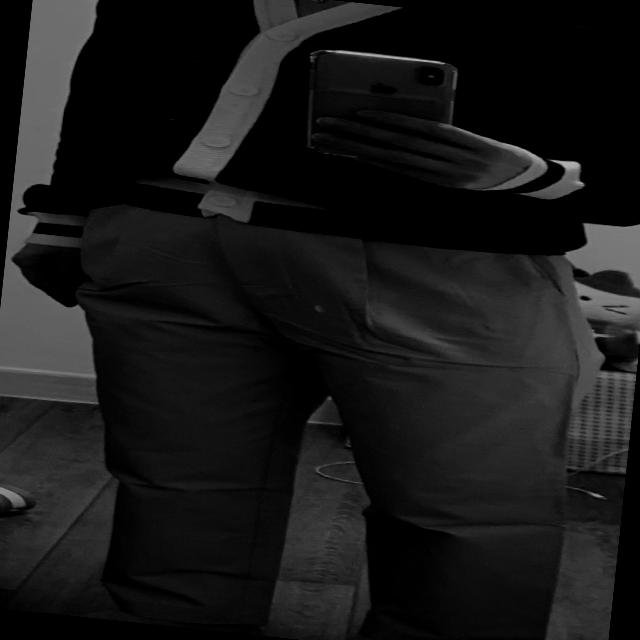cardigan: (15, 0, 640, 310)
cottonpants: (32, 195, 604, 640)
